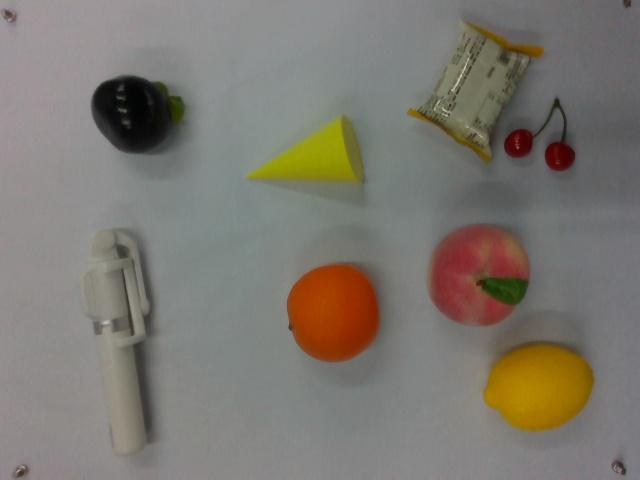cherry: (504, 97, 581, 175)
cone: (242, 111, 365, 185)
dessert: (410, 21, 541, 160)
lemon: (486, 345, 597, 432)
mangosteen: (93, 74, 185, 157)
orange: (285, 260, 381, 365)
peach: (428, 223, 531, 331)
selfiestick: (80, 229, 154, 458)
